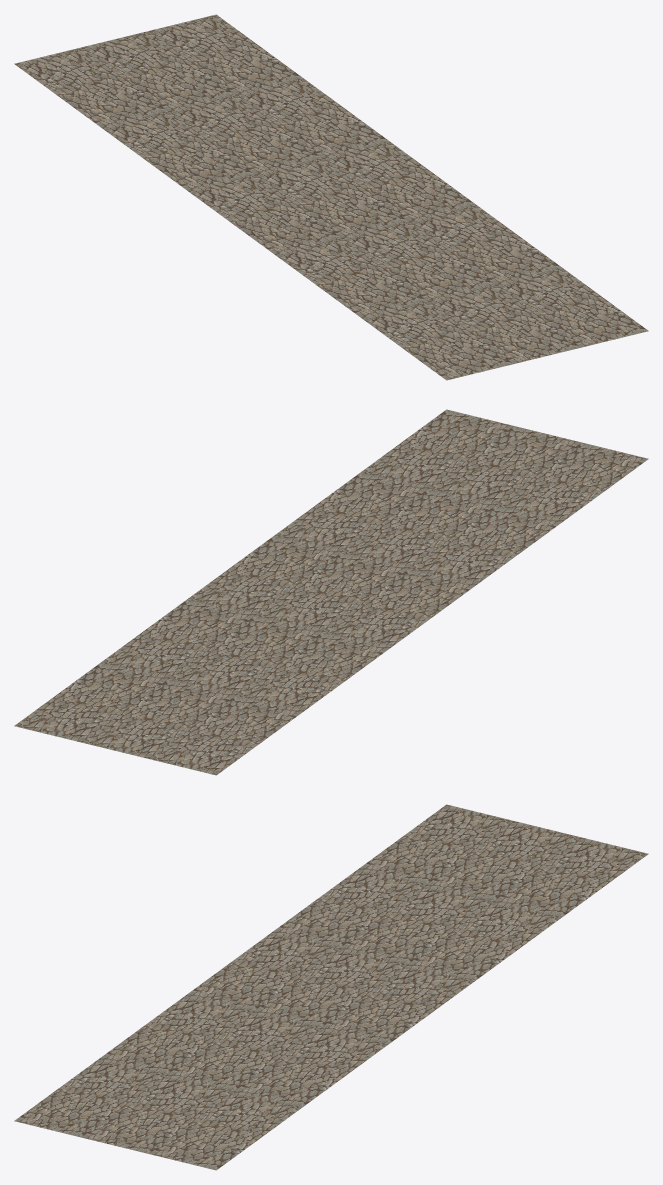
The model's file is Tile5.fbx.
3 renders of one model, top to bottom at view 1: azimuth 30°, elevation 25°; view 2: azimuth 150°, elevation 25°; view 3: azimuth 330°, elevation 25°, orthographic.
Parts seen in each view (by area): view 1: Lobby_Plane.003; view 2: Lobby_Plane.003; view 3: Lobby_Plane.003.
Part boxes in pixels (<box>): Lobby_Plane.003: <box>14,14,648,380</box>; Lobby_Plane.003: <box>14,409,648,775</box>; Lobby_Plane.003: <box>14,804,648,1170</box>.
Size of the model in its own units: 2011198 by 1.55 by 7445780.
15 materials, 15 textured.
